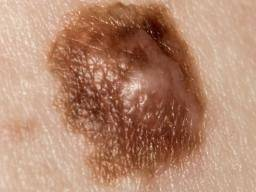melanoma: (33, 16, 226, 166)
